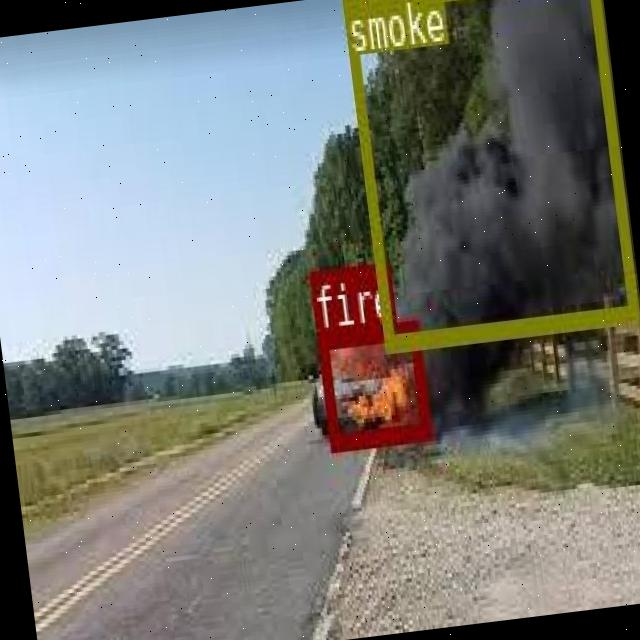fire: (314, 318, 429, 450)
smoke: (341, 0, 638, 350)
